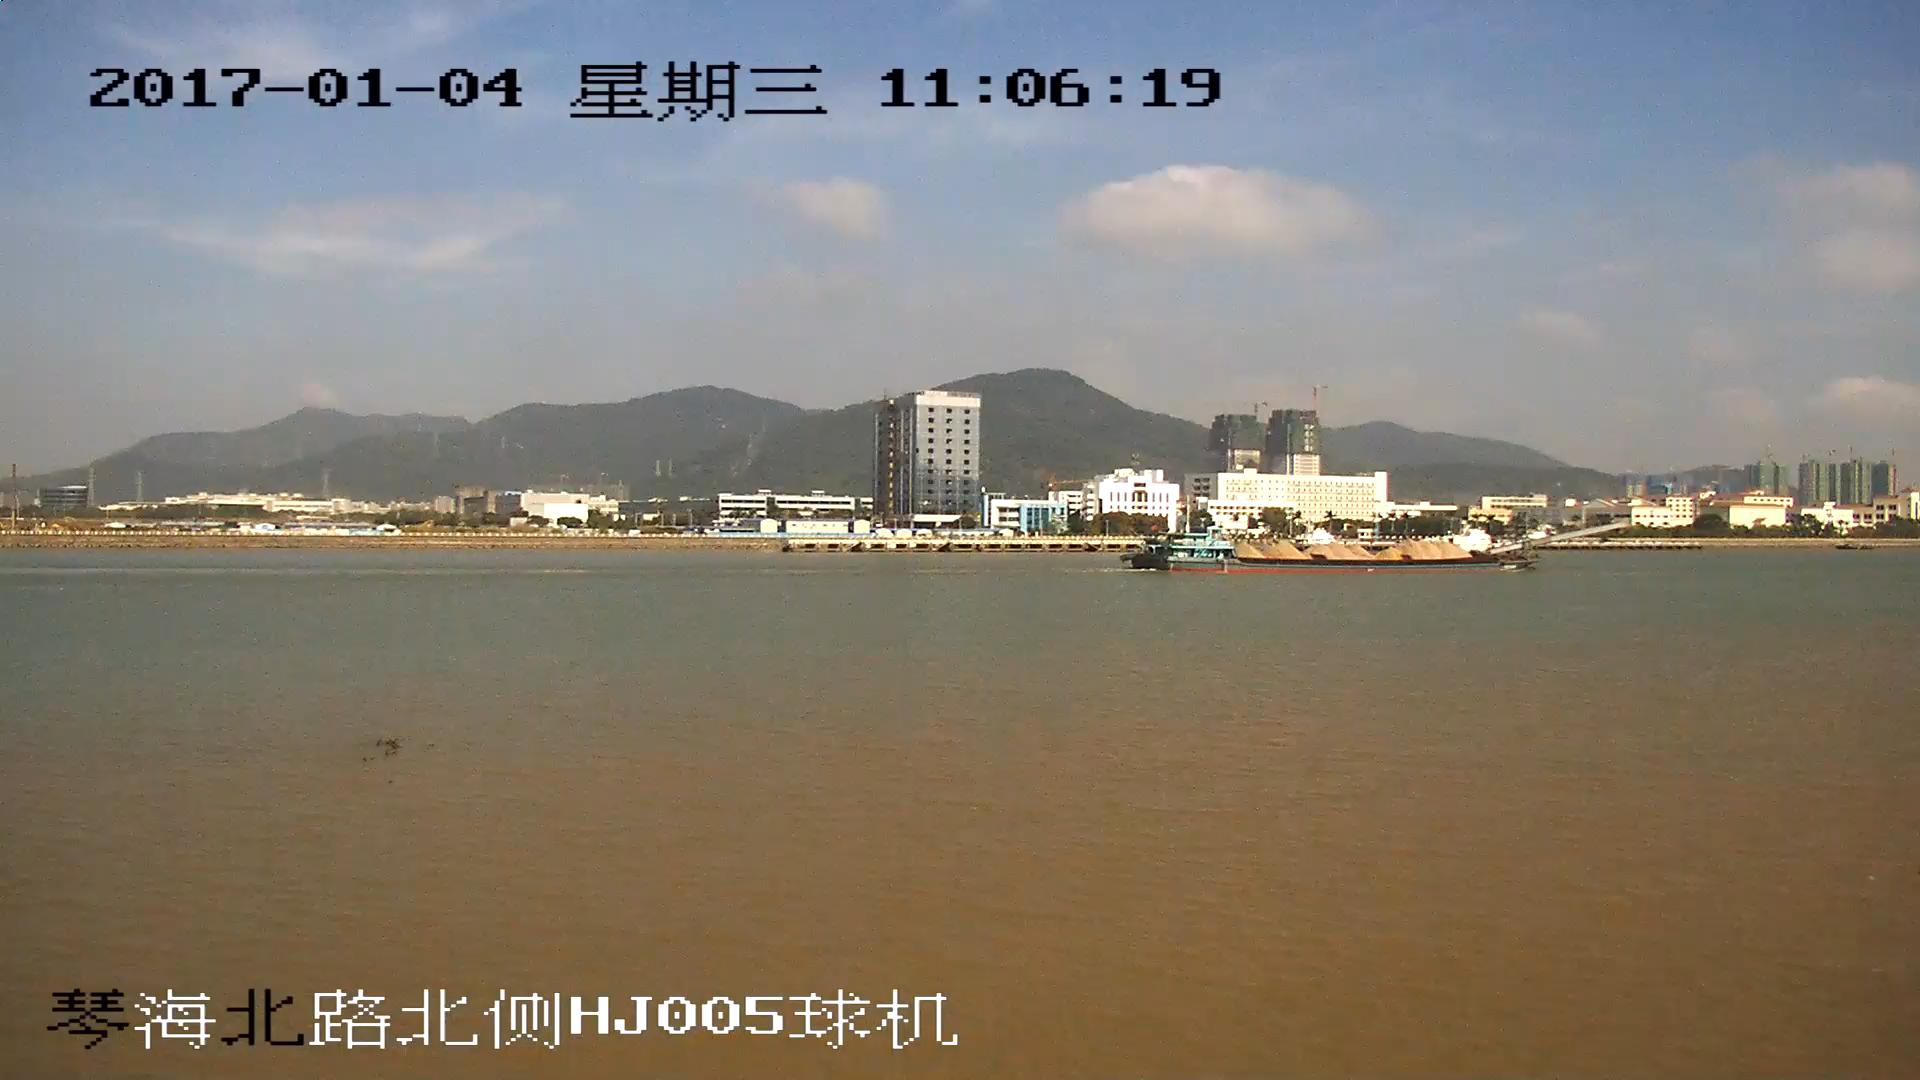ore carrier: (1128, 523, 1622, 574)
